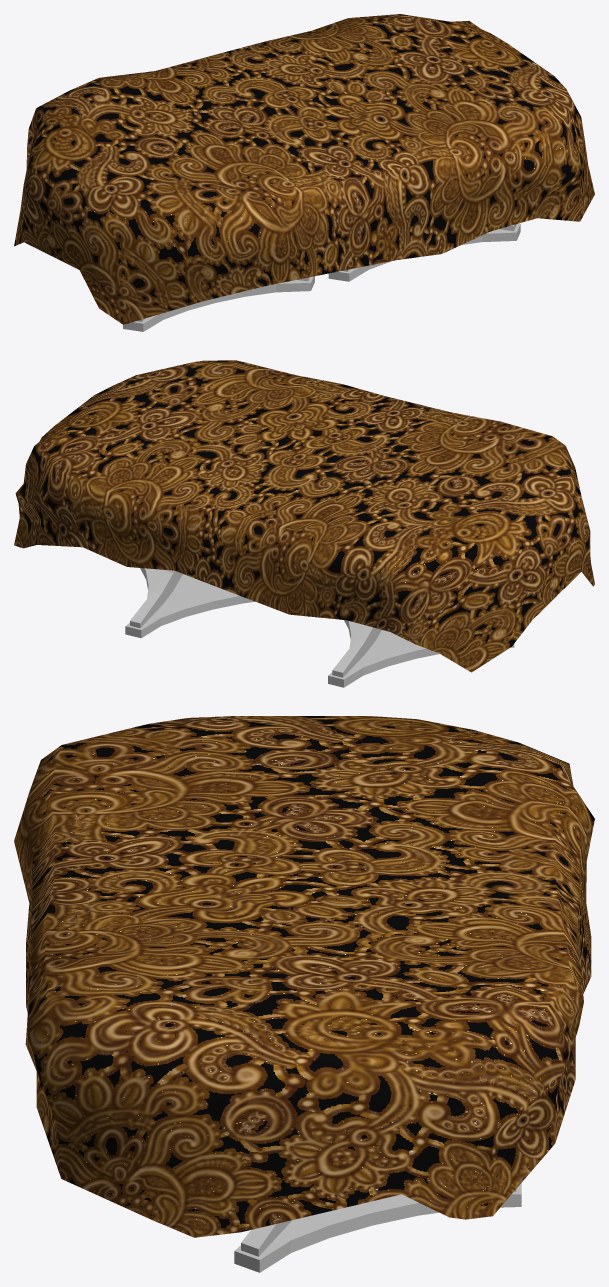
File: FloatTableCloth.fbx
3 views of the same model, one above another, from view 1: azimuth 30°, elevation 25°; view 2: azimuth 150°, elevation 25°; view 3: azimuth 270°, elevation 25° (orthographic). The views are drawn at different scales.
Visible parts, largest first — view 1: Cube.004, Cube.036; view 2: Cube.004, Cube.036; view 3: Cube.004, Cube.036.
Part boxes in pixels (x1,y1,x2,y2): Cube.004: (14,14,594,324); Cube.036: (123,223,520,331); Cube.004: (14,360,594,672); Cube.036: (125,568,514,687); Cube.004: (14,716,594,1237); Cube.036: (234,1183,521,1272).
Size of the model in its own units: 2315 by 722 by 1484.
